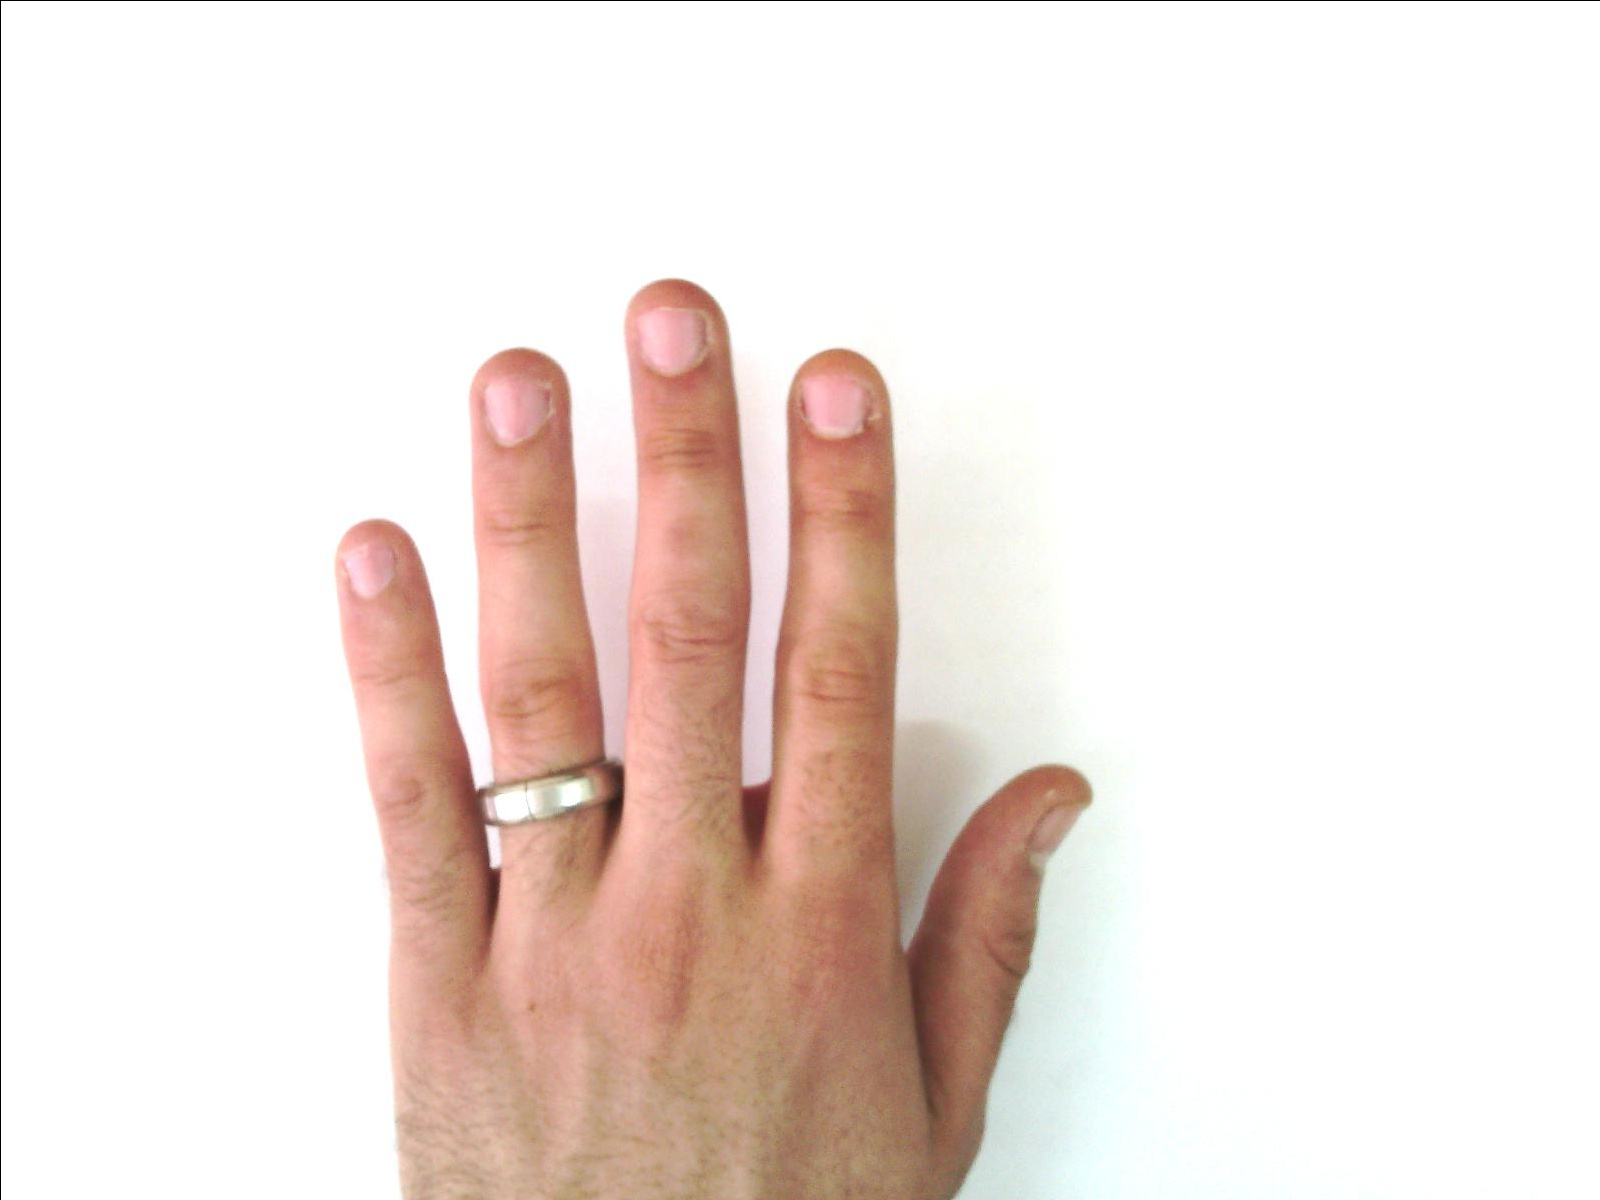5-hand: (336, 277, 1090, 1200)
